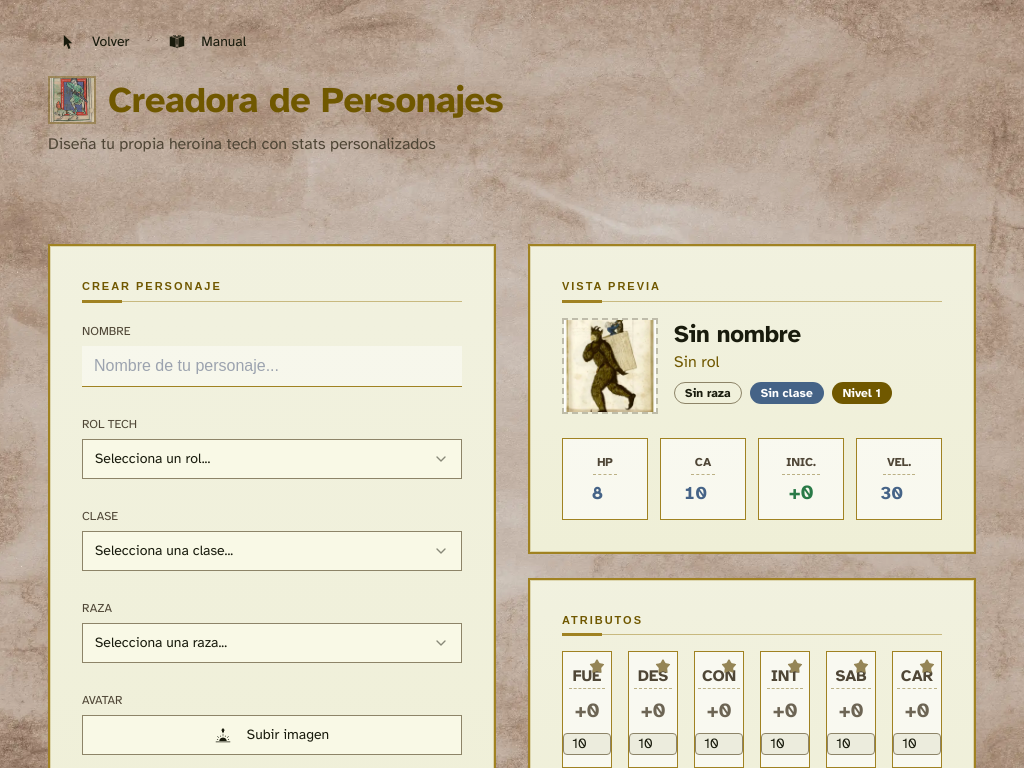
Scenario: character creator guard › rejects stats outside their range
The image size is (1024, 768).
Step 1. Replace the text in the number field named "Puntos de golpe" with "0" → (605, 492), box [575,478,635,506]
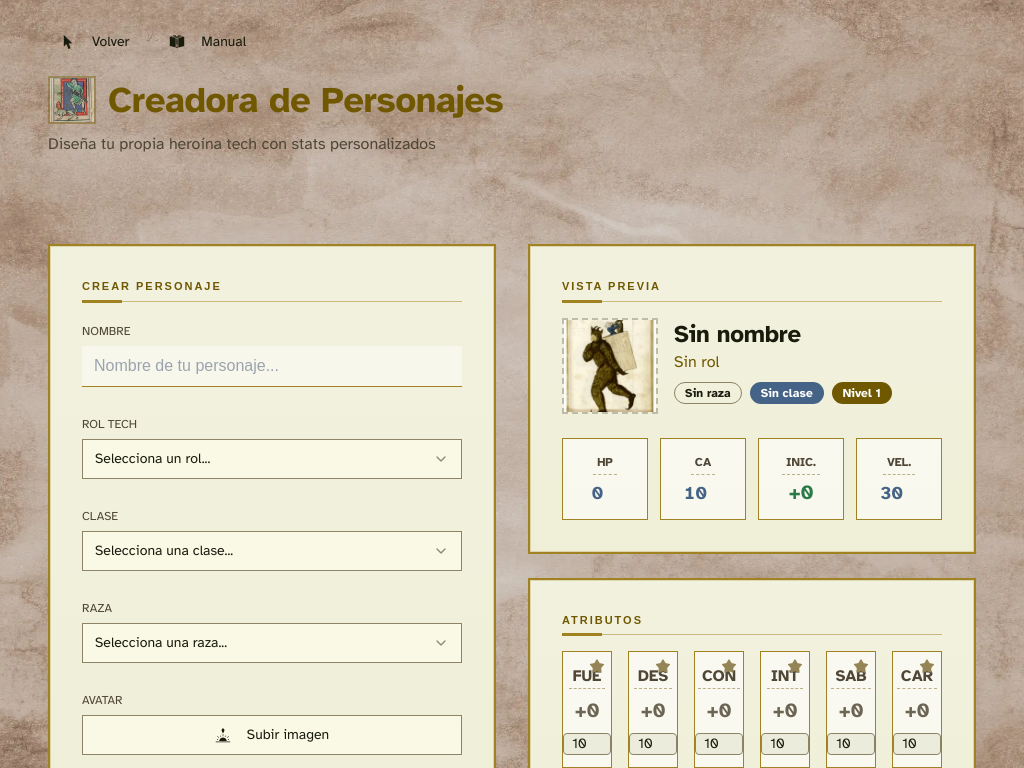
Step 2. Leave the number field named "Puntos de golpe", box [575,478,635,506]
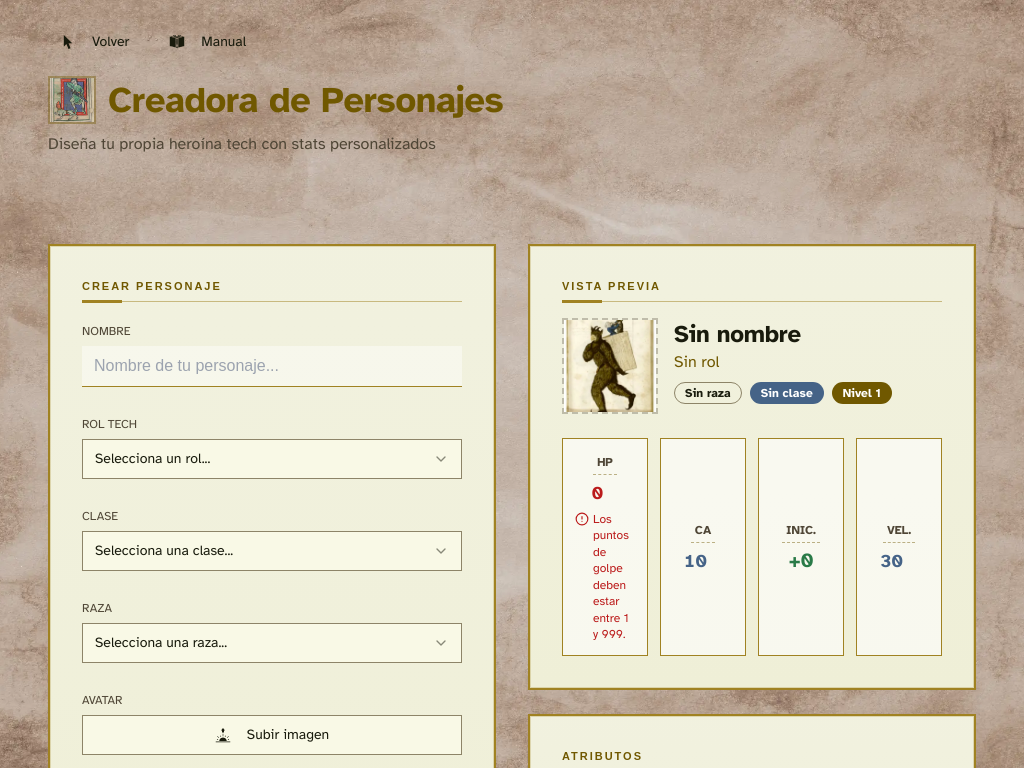
Result: the text "Los puntos de golpe deben estar entre 1 y 999." is shown at [593,510,635,642]
